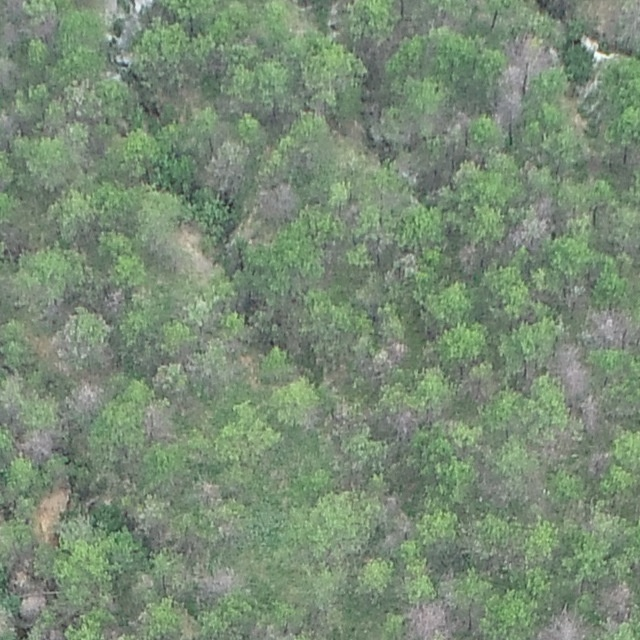unhealthy: (506, 194, 557, 249), (198, 142, 250, 193), (166, 220, 214, 275), (503, 32, 555, 80), (546, 340, 590, 395), (586, 303, 637, 348), (402, 600, 457, 640), (492, 64, 526, 128), (255, 181, 301, 222), (125, 504, 171, 544), (534, 607, 589, 640), (535, 424, 577, 463), (379, 497, 412, 546), (596, 580, 634, 620), (195, 567, 240, 600), (457, 366, 498, 402), (18, 426, 60, 461), (140, 399, 175, 440), (70, 376, 105, 414), (6, 549, 36, 591), (574, 392, 604, 432), (475, 473, 509, 506), (333, 115, 367, 147), (46, 323, 76, 359), (17, 586, 49, 618), (388, 406, 420, 437), (520, 466, 548, 501), (246, 620, 297, 639), (455, 241, 483, 274), (28, 13, 60, 40), (100, 286, 127, 316), (586, 449, 612, 478), (395, 117, 420, 146), (196, 479, 223, 504), (0, 55, 18, 92), (0, 21, 22, 48), (179, 83, 203, 107), (450, 107, 473, 132), (372, 348, 397, 369), (0, 107, 18, 136), (0, 603, 15, 637), (42, 627, 65, 640)
